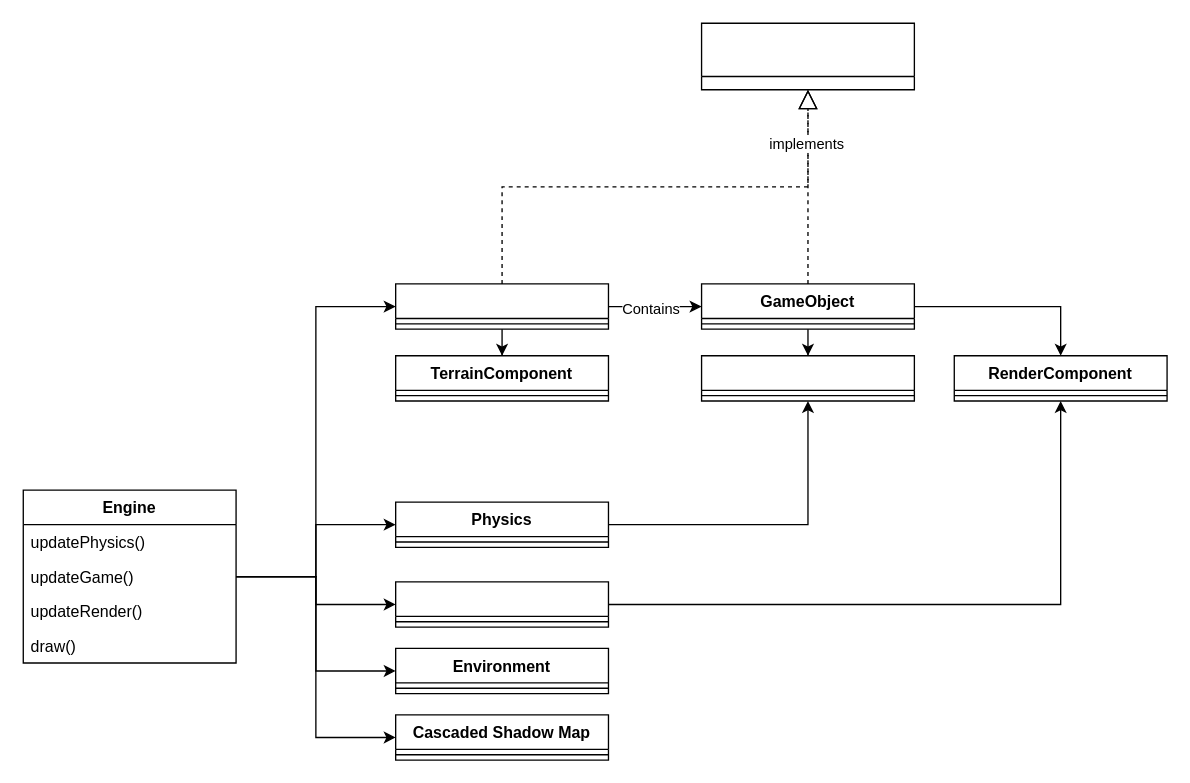
This 1190x783 diagram has some shape labels left out. Here are the shapes that lost their labels. From the top down, the centre of each, then its label:
(x=807, y=56): <<interface>> IComponentContainer
(x=501, y=306): Map
(x=807, y=377): PhysicsComponent
(x=501, y=604): Render Object
